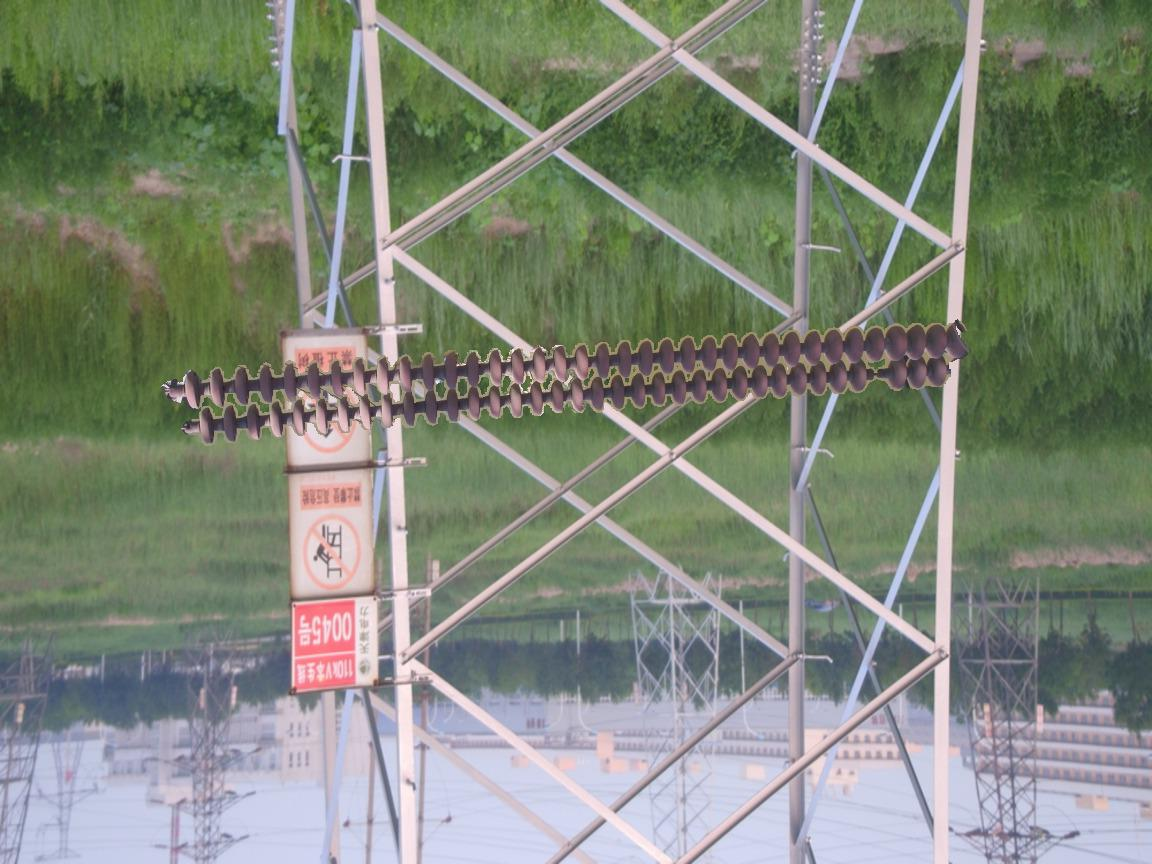insulator: (181, 315, 974, 442)
insulator_stringdrop: (847, 357, 911, 396)
